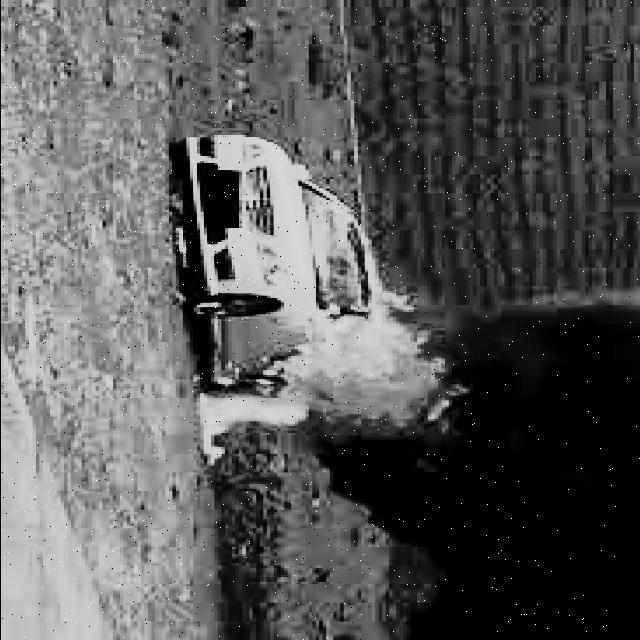api: (200, 223, 466, 467)
